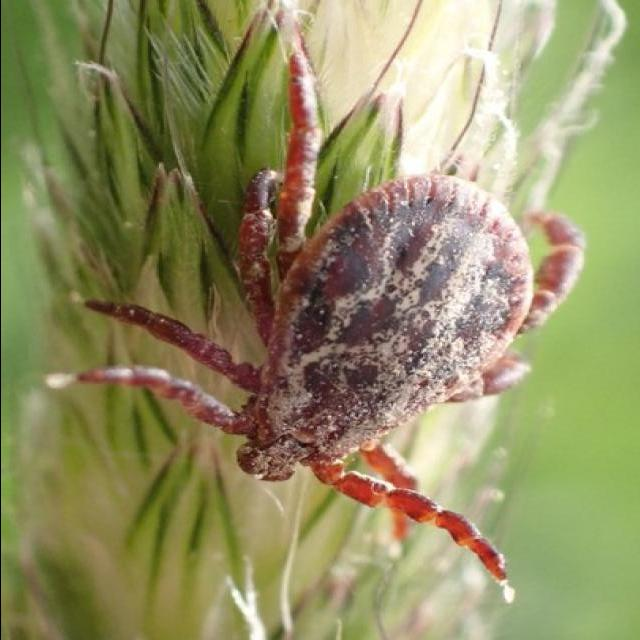Dermacentor Reticulatus-M: (41, 44, 585, 588)
